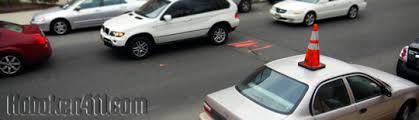car: (197, 56, 419, 119), (99, 1, 241, 60), (31, 1, 149, 37), (1, 18, 52, 75), (268, 1, 367, 24)
cone: (297, 24, 327, 71)
